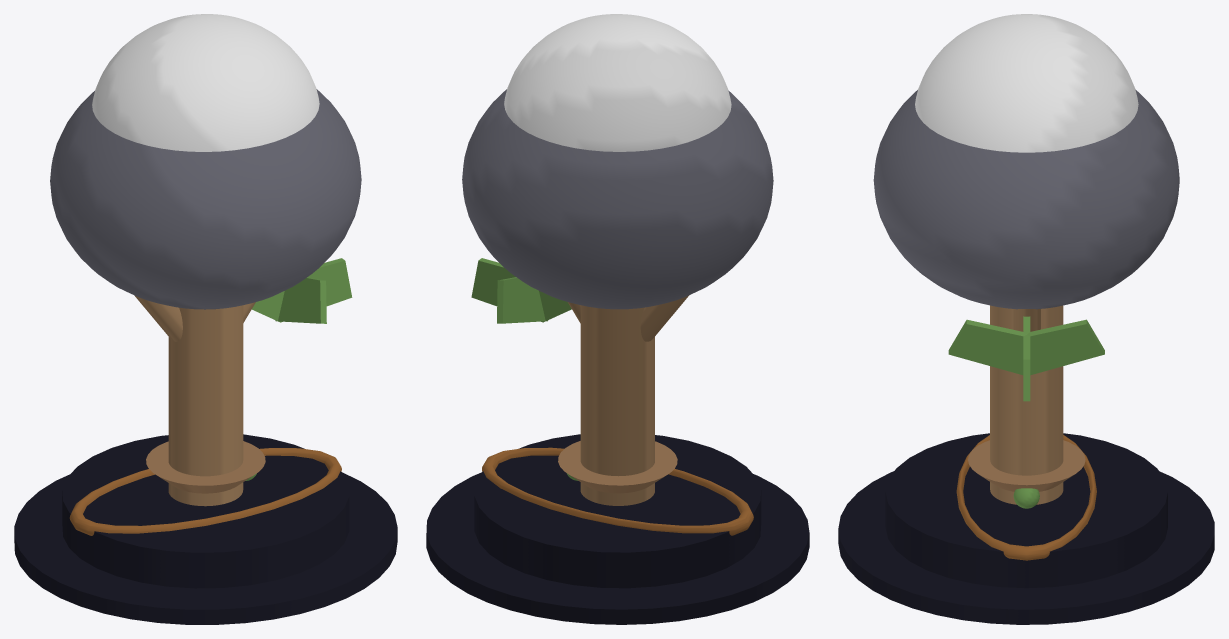
File: 0089_植物图鉴_爬山虎.glb
3 views of the same model, side by side, from view 1: azimuth 30°, elevation 25°; view 2: azimuth 150°, elevation 25°; view 3: azimuth 270°, elevation 25° (orthographic).
Parts seen in each view (by area): view 1: card_0089; view 2: card_0089; view 3: card_0089.
Part boxes in pixels (x1,y1,x2,y2): card_0089: (14, 14, 397, 624); card_0089: (426, 14, 809, 624); card_0089: (838, 14, 1214, 624).
Bounding box in the file's own units: 0.6721 × 1 × 0.6584.
